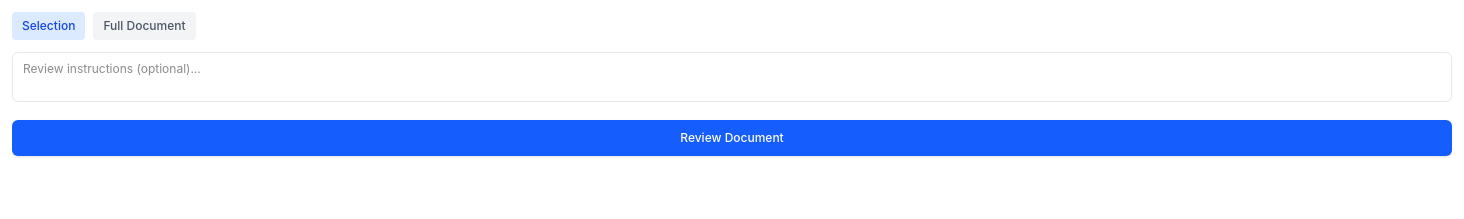
ReviewPanel — free-tier review › shows a document-specific message for an empty document in Full Document mode
Click the button "Full Document" at (144, 26), box [93,12,196,40]
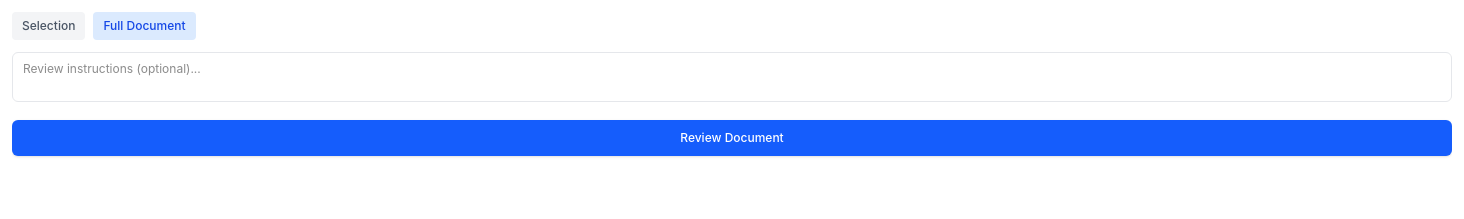
Click the button "Review Document" at (732, 138), box [12,120,1452,156]
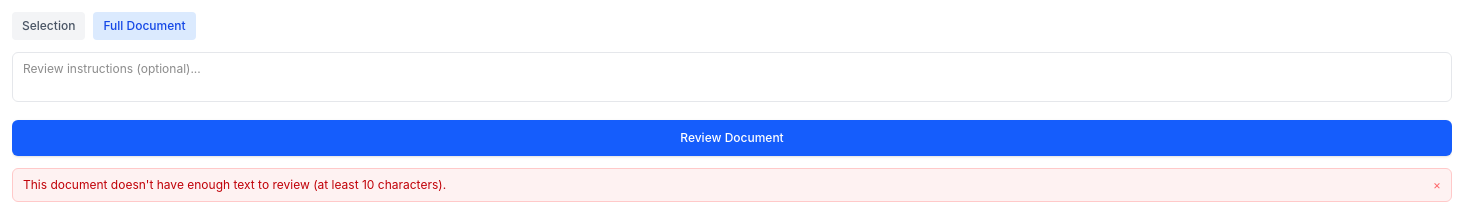
Expected: the text "This document doesn't have enough text to review (at least 10 characters)." is shown, [23,176,446,192]
